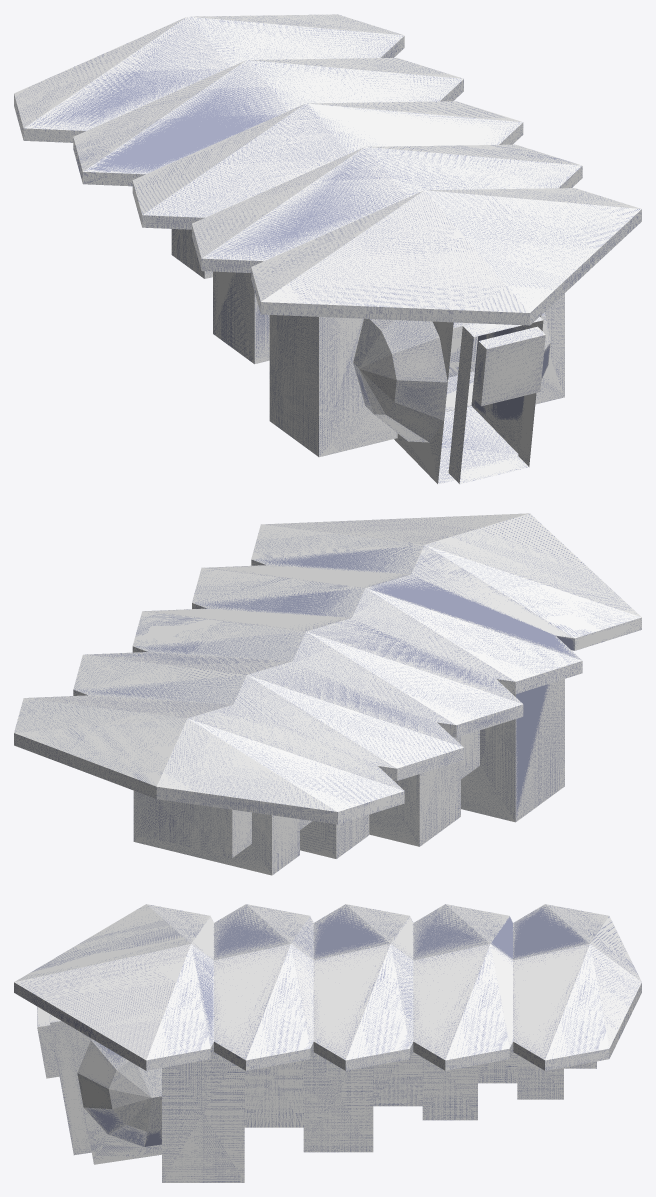
The model's file is Freeborn.dae.
3 views of the same model, one above another, from view 1: azimuth 30°, elevation 25°; view 2: azimuth 150°, elevation 25°; view 3: azimuth 270°, elevation 25° (orthographic). The views are drawn at different scales.
Visible parts, largest first — view 1: SketchUp (×3); view 2: SketchUp; view 3: SketchUp (×3).
Part boxes in pixels (x1,y1,x2,y2): SketchUp (×3): [14, 14, 641, 484]; SketchUp: [14, 513, 641, 875]; SketchUp (×3): [14, 904, 641, 1182].
Size of the model in its own units: 44.88 by 76.16 by 27.13.
